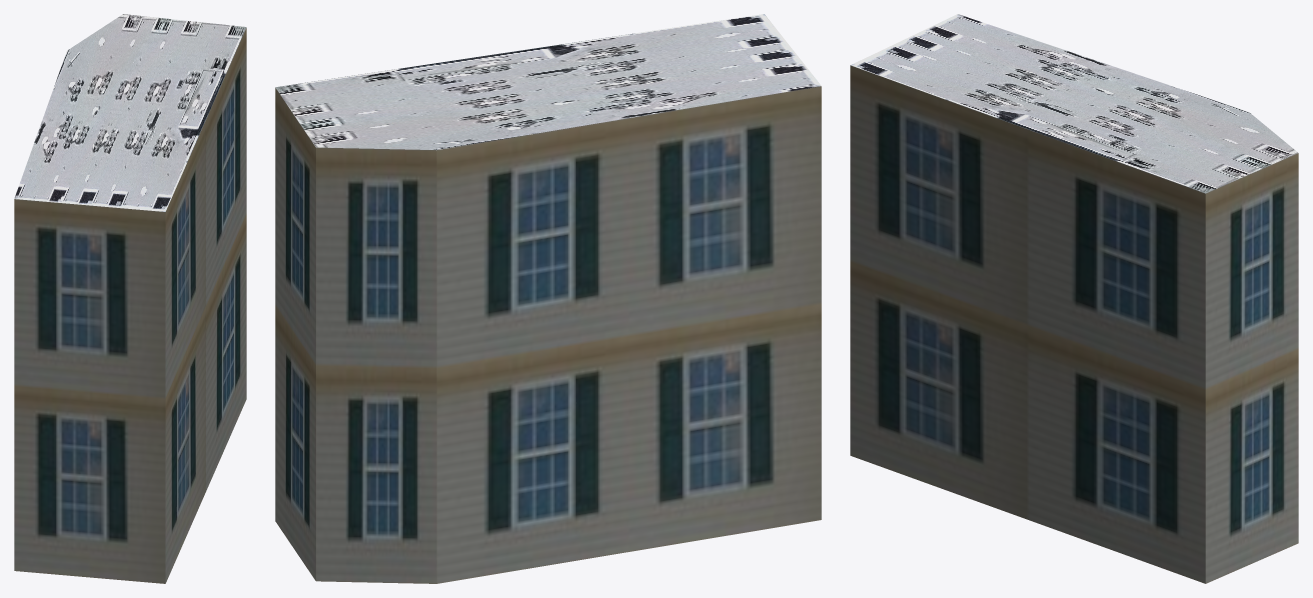
File: ResTex__3743.fbx
3 views of the same model, side by side, from view 1: azimuth 30°, elevation 25°; view 2: azimuth 150°, elevation 25°; view 3: azimuth 270°, elevation 25° (orthographic). The views are drawn at different scales.
Visible parts, largest first — view 1: CityEngineMaterial_7_m, CityEngineMaterial_m; view 2: CityEngineMaterial_7_m, CityEngineMaterial_m; view 3: CityEngineMaterial_7_m, CityEngineMaterial_m.
Boxes of the visible parts, x1,y1,x2,y2 form: CityEngineMaterial_7_m: (14, 28, 246, 583); CityEngineMaterial_m: (14, 14, 246, 211); CityEngineMaterial_7_m: (275, 86, 821, 583); CityEngineMaterial_m: (275, 14, 821, 150); CityEngineMaterial_7_m: (850, 65, 1298, 583); CityEngineMaterial_m: (851, 14, 1297, 193).
Bounding box in the file's own units: 5.92 × 6 × 6.24.
2 materials, 2 textured.
